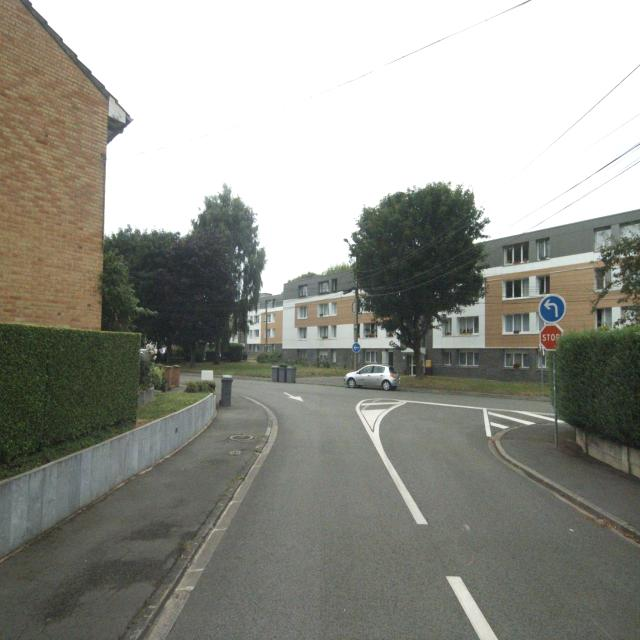car: (344, 362, 400, 390)
